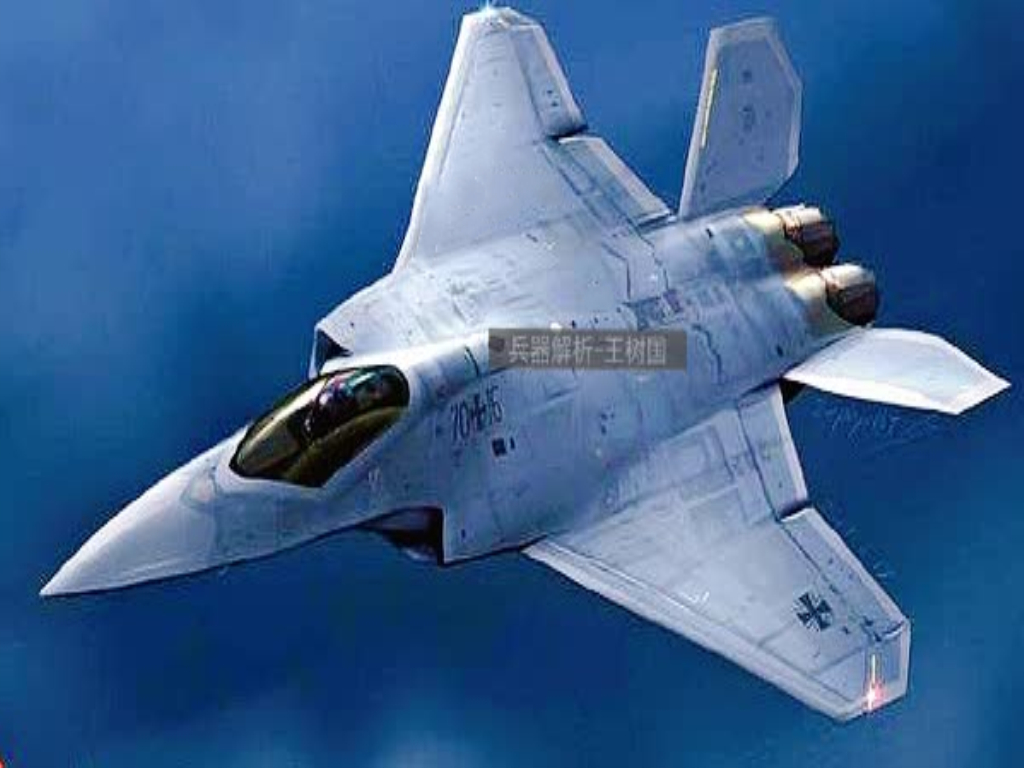airplane: (38, 7, 1017, 729)
